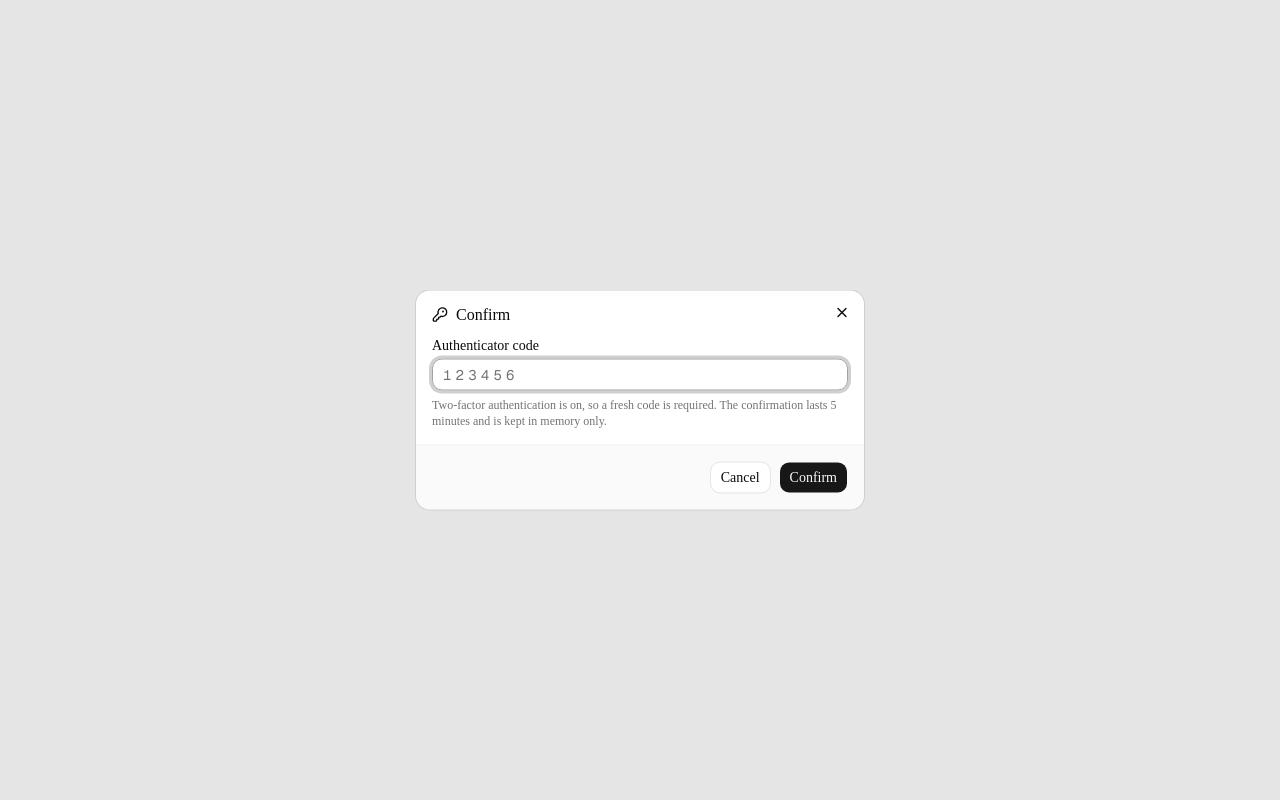
Test: StepUpDialog › uses the authenticator code when TOTP is enabled
Later steps or results of the test are not shown.
Type "12ab3456" into the field labelled "Authenticator code" at (640, 374), box [432,358,848,390]
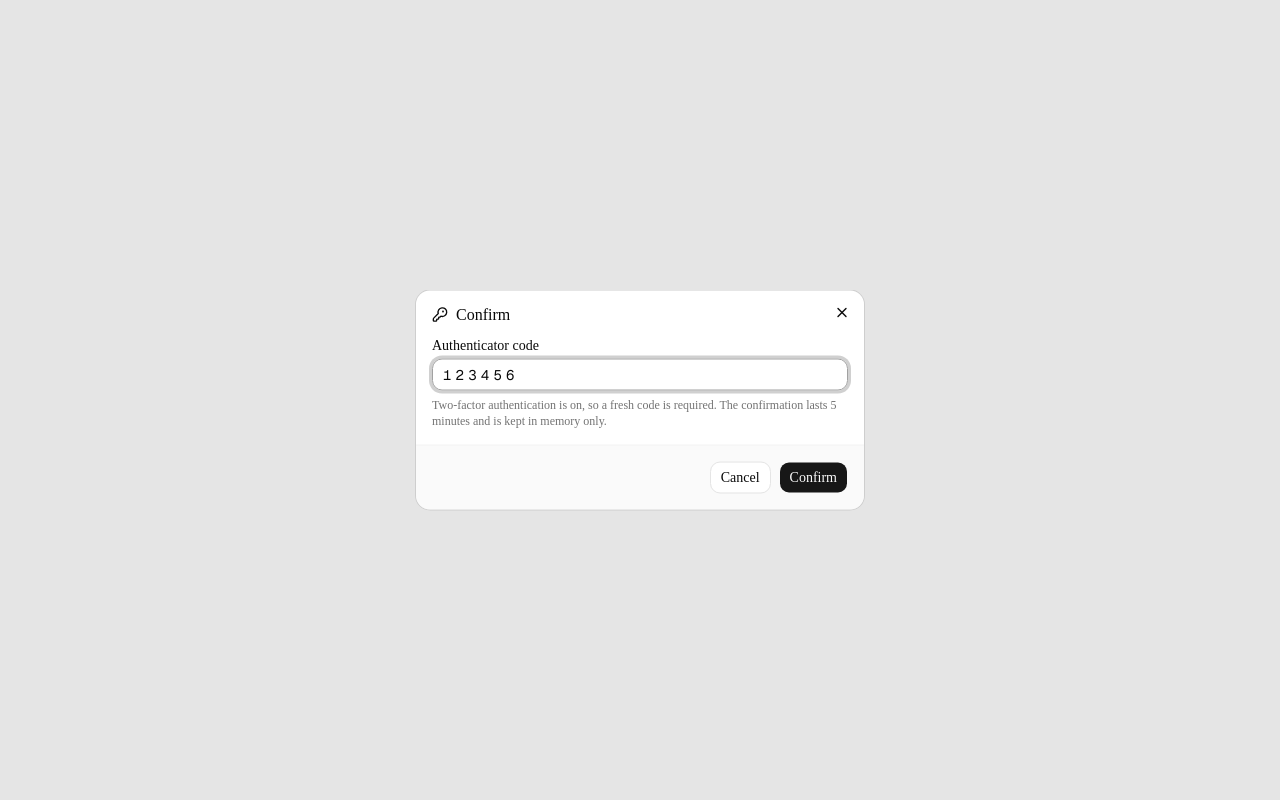
Check: the field labelled "Authenticator code" holds "123456", box [432,358,848,390]
